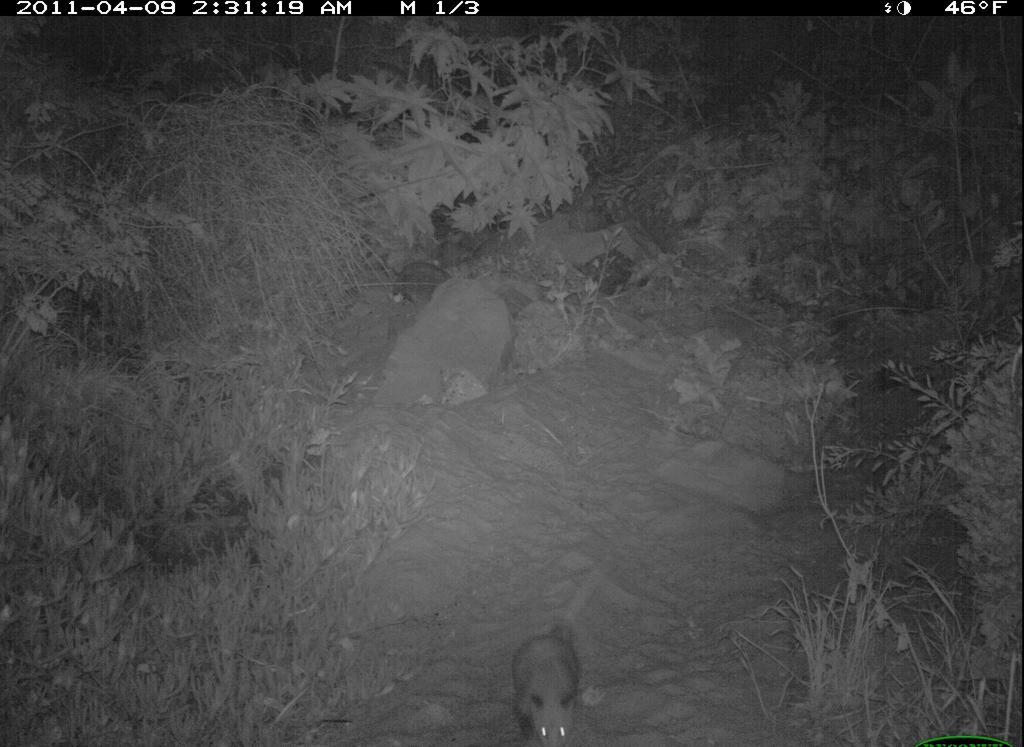opossum: (477, 585, 616, 747)
